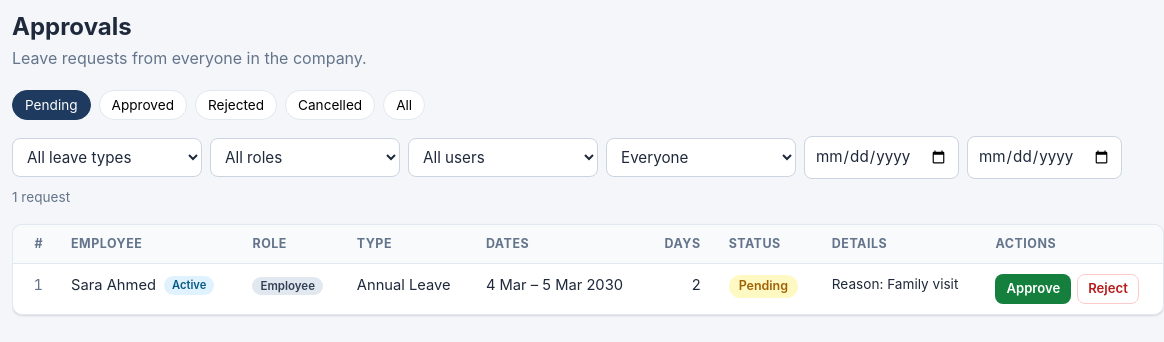
Scenario: ApprovalsPage › changing a filter refetches with it
The image size is (1164, 342).
Expected: the cell "Sara Ahmed Active" is shown, [57,264,238,314]
Select "Sara Ahmed" in the dropdown named "Person" at coordinates (701, 158), box [606,138,796,177]
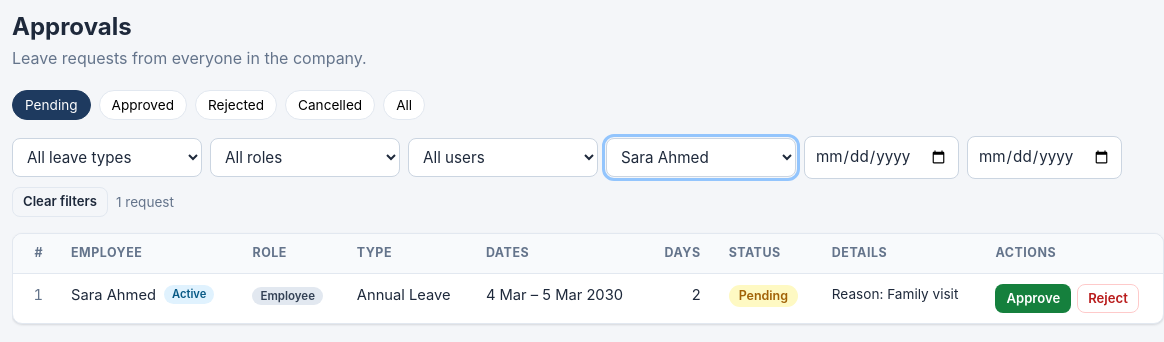
Expected: the button "Clear filters" is shown, [12,187,108,217]
